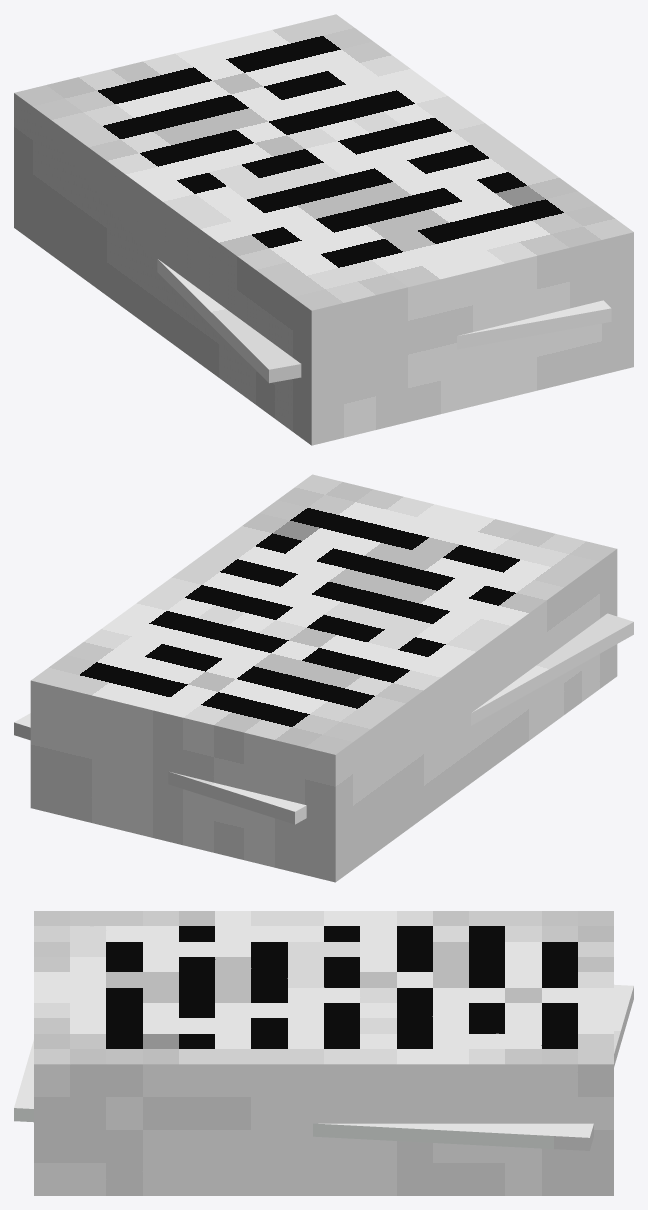
File: Paper_stack.gltf
The picture shows the model from 3 angles, top to bottom: view 1: azimuth 30°, elevation 25°; view 2: azimuth 150°, elevation 25°; view 3: azimuth 270°, elevation 25°; orthographic projection. The views are drawn at different scales.
Visible parts, largest first — view 1: cuboid (×2); view 2: cuboid (×2); view 3: cuboid (×2).
Boxes of the visible parts, box(x1,y1,x2,y2) form: cuboid (×2): box(14, 14, 633, 445); cuboid (×2): box(14, 474, 633, 882); cuboid (×2): box(14, 911, 633, 1195).
Bounding box in the file's own units: 0.7422 × 0.25 × 1.07.
Materials: 1 (1 with a texture image).
